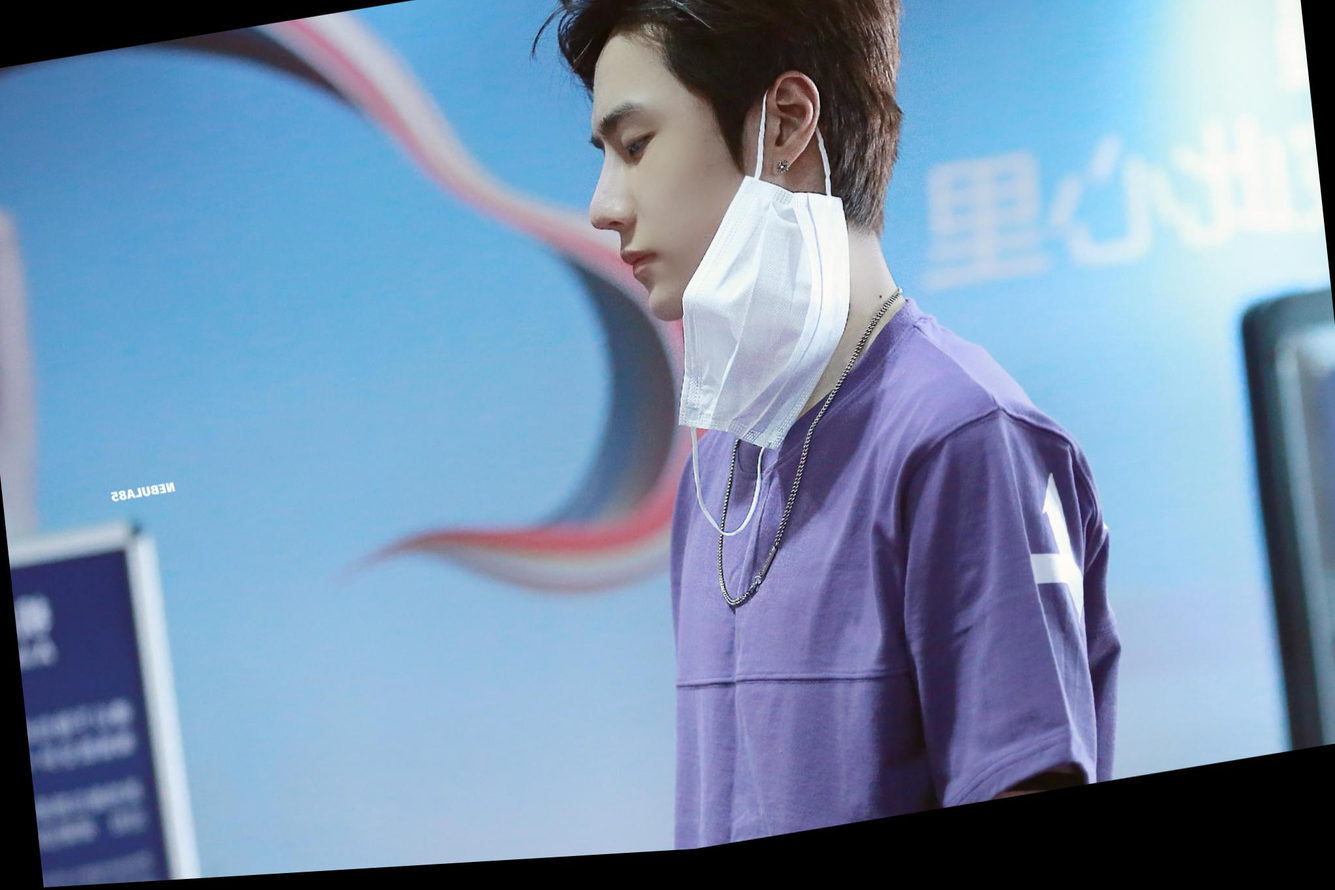WRONG: (575, 61, 759, 349)
